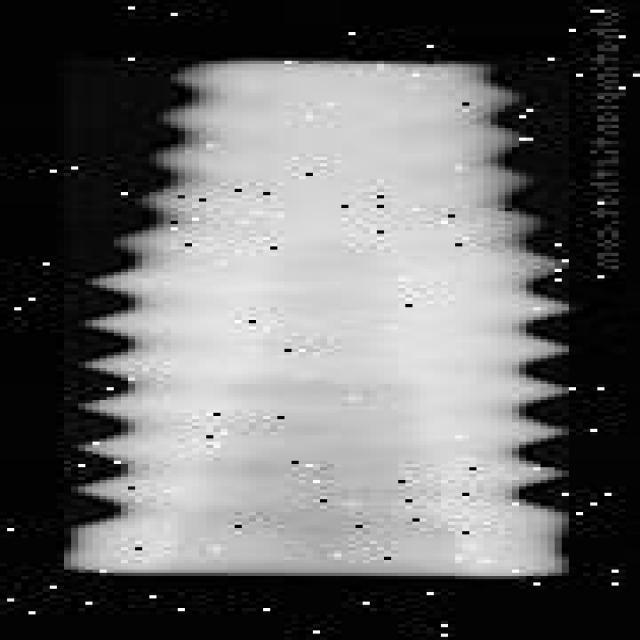Retained root: (64, 56, 575, 579)
